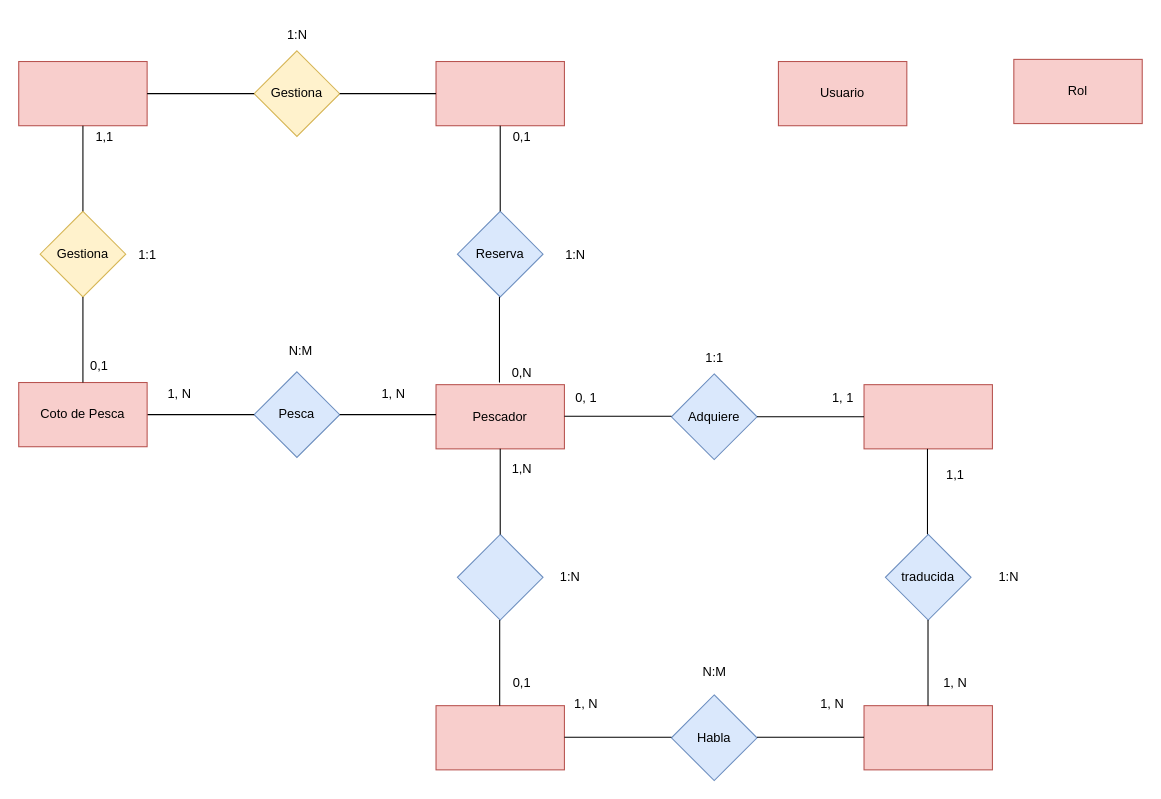
Image size: 1161x799. Some labels were removed from this diagram. Each missing label, with the centre of its shape:
Contrata: point (499, 576)
Gerente: point (82, 93)
Guia de Pesca: point (499, 737)
Hotel: point (499, 93)
Idioma: point (927, 737)
Licencia: point (927, 416)
